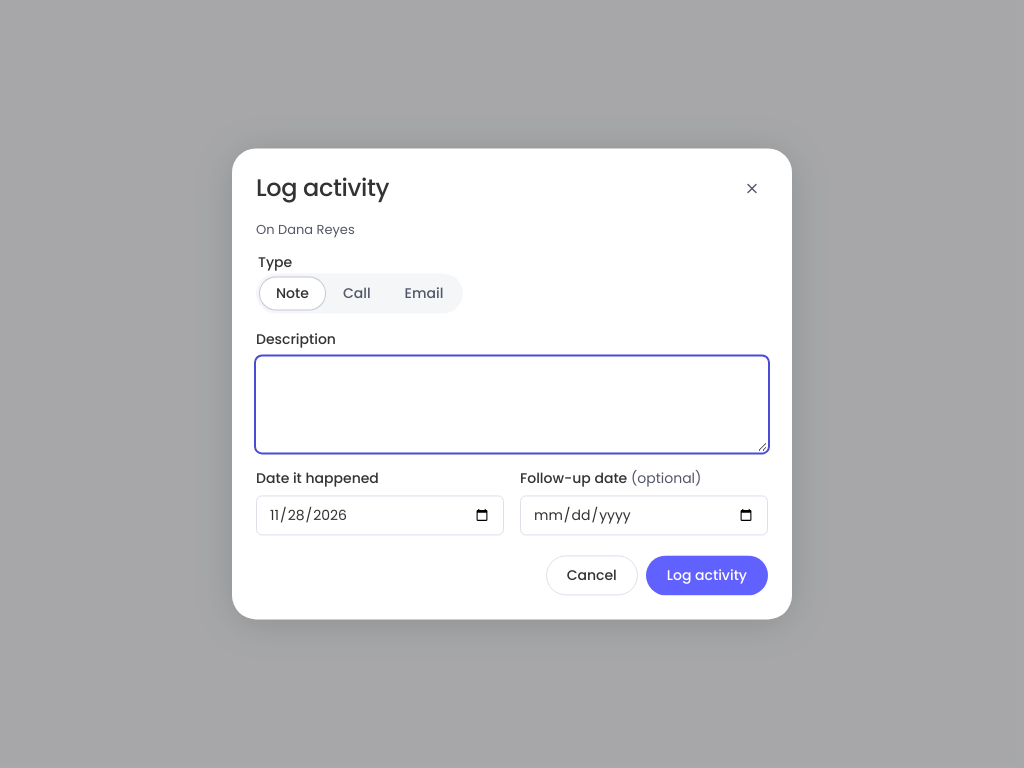
Test: the activity form › asks for a description and a date
Clear the date field labelled "Date it happened" at (380, 516), box 256,496 -> 504,536
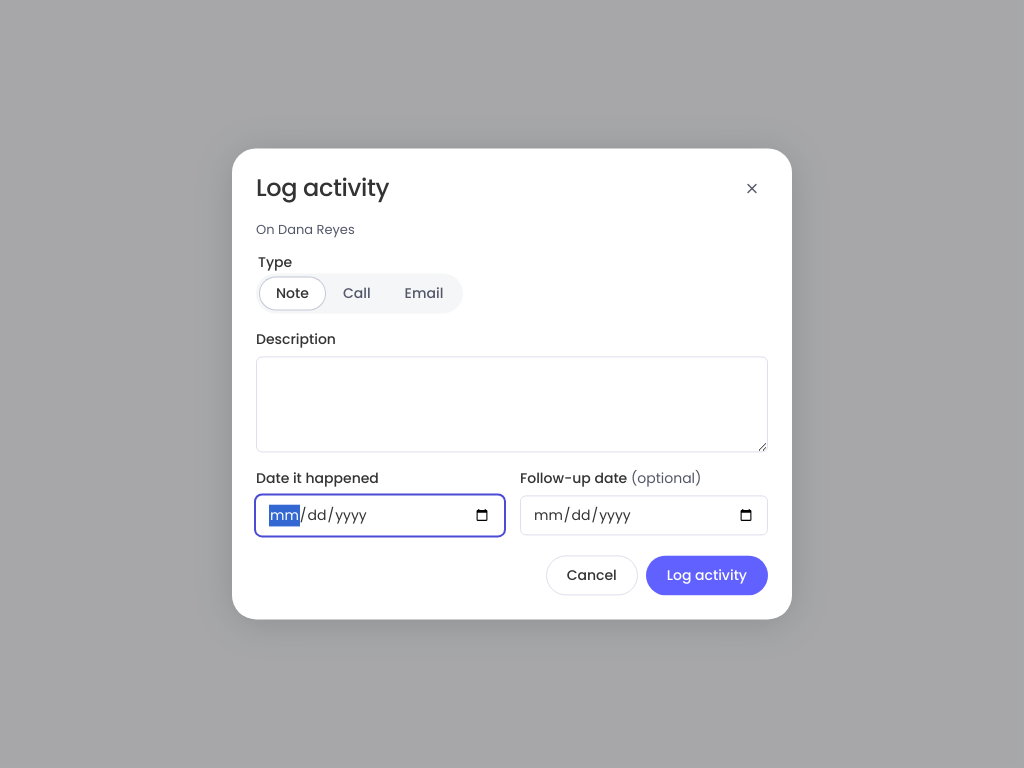
Click the button "Log activity" at (707, 576), box 646,556 -> 768,596
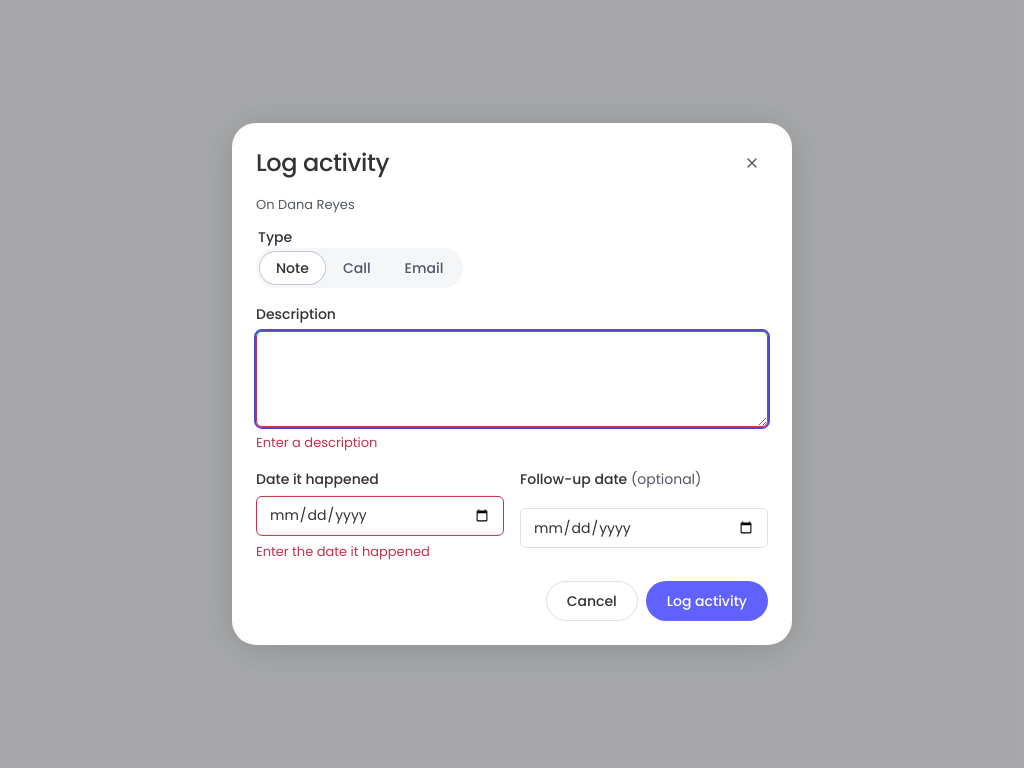
Check: the text "Enter a description" is shown, box 256,433 -> 377,452
Check: the text "Enter the date it happened" is shown, box 256,542 -> 430,561
